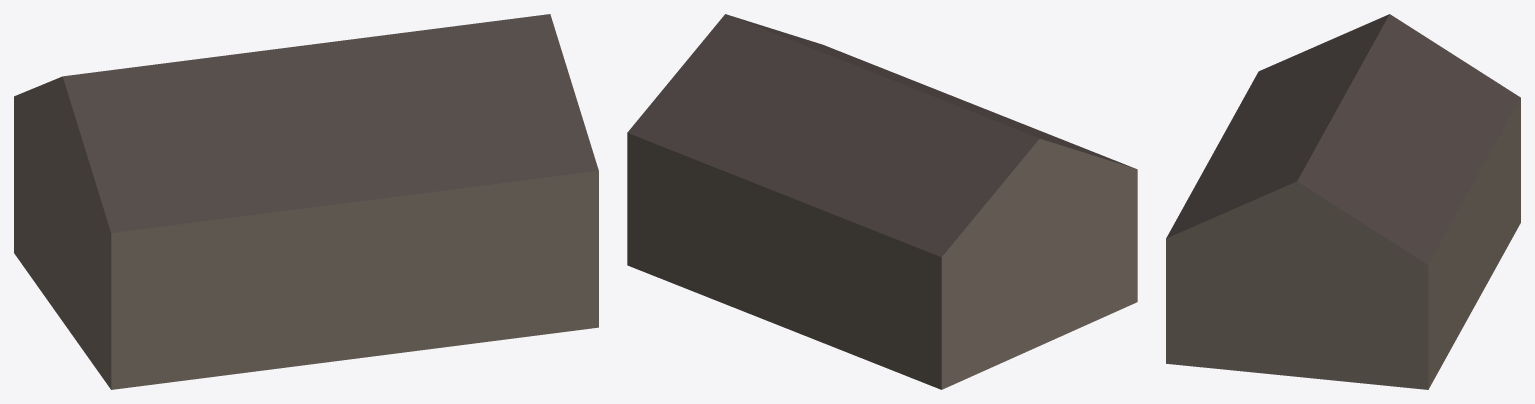
3 renders of one model, left to right at view 1: azimuth 30°, elevation 25°; view 2: azimuth 150°, elevation 25°; view 3: azimuth 270°, elevation 25°, orthographic. The views are drawn at different scales.
Visible parts, largest first — view 1: HP-w859082495; view 2: HP-w859082495; view 3: HP-w859082495.
Part boxes in pixels (x1=…): HP-w859082495: x1=14, y1=14, x2=598, y2=389; HP-w859082495: x1=627, y1=14, x2=1137, y2=389; HP-w859082495: x1=1166, y1=14, x2=1520, y2=389.
Bounding box in the file's own units: 19.9 × 9.38 × 15.43.
